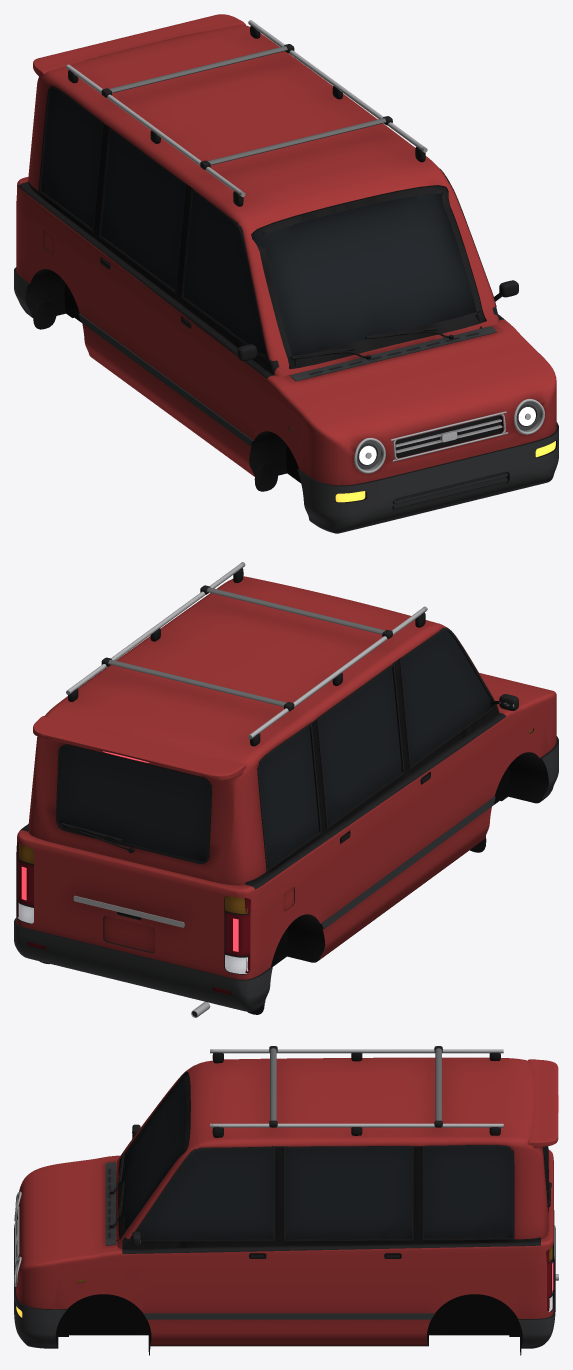
The model's file is mochi.glb.
3 views of the same model, one above another, from view 1: azimuth 30°, elevation 25°; view 2: azimuth 150°, elevation 25°; view 3: azimuth 270°, elevation 25° (orthographic). The views are drawn at different scales.
Parts seen in each view (by area): view 1: paint, window, trim, plastic, chrome, grille; view 2: paint, window, trim, plastic, chrome, tail, reverse, indicator; view 3: paint, window, trim, plastic, chrome.
Part boxes in pixels (<box>): paint: <box>16,14,556,485</box>; window: <box>41,88,485,368</box>; trim: <box>14,26,558,502</box>; plastic: <box>14,271,558,533</box>; chrome: <box>66,20,544,473</box>; grille: <box>392,415,506,509</box>; paint: <box>16,576,556,979</box>; window: <box>58,630,493,867</box>; trim: <box>14,568,558,1016</box>; plastic: <box>14,742,558,1011</box>; chrome: <box>66,562,514,1017</box>; tail: <box>17,843,250,994</box>; reverse: <box>17,903,248,973</box>; indicator: <box>18,728,532,913</box>; paint: <box>16,1057,558,1345</box>; window: <box>122,1073,547,1238</box>; trim: <box>14,1046,555,1355</box>; plastic: <box>14,1162,555,1348</box>; chrome: <box>14,1048,558,1286</box>.
Size of what is drawn, in the model's own units: 1.71 by 1.6 by 3.46.
